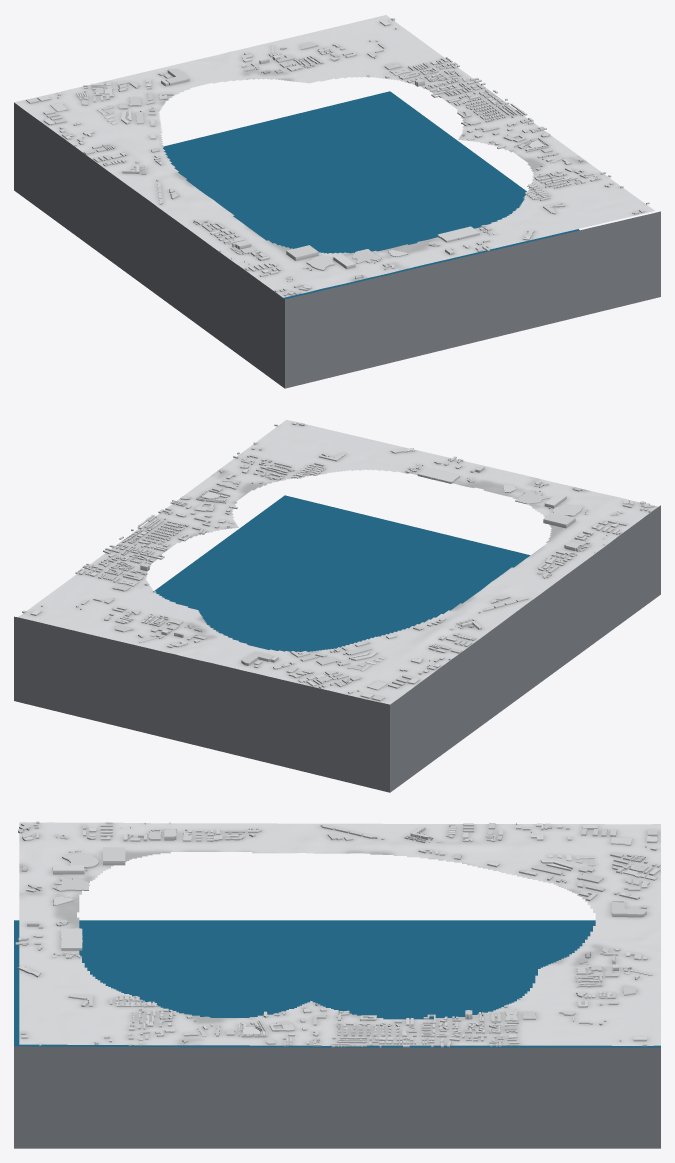
File: far.glb
3 views of the same model, one above another, from view 1: azimuth 30°, elevation 25°; view 2: azimuth 150°, elevation 25°; view 3: azimuth 270°, elevation 25° (orthographic). The views are drawn at different scales.
Visible parts, largest first — view 1: plinth, terrain, water, building; view 2: plinth, terrain, water, building; view 3: plinth, terrain, water, building.
Boxes of the visible parts, x1=… form: plinth: x1=14, y1=102, x2=660, y2=388; terrain: x1=14, y1=15, x2=654, y2=297; water: x1=163, y1=91, x2=579, y2=298; building: x1=26, y1=18, x2=649, y2=296; plinth: x1=14, y1=505, x2=660, y2=792; terrain: x1=18, y1=419, x2=658, y2=704; water: x1=154, y1=495, x2=530, y2=651; building: x1=22, y1=421, x2=654, y2=701; plinth: x1=14, y1=1046, x2=660, y2=1148; terrain: x1=19, y1=822, x2=660, y2=1045; water: x1=14, y1=920, x2=660, y2=1047; building: x1=15, y1=821, x2=660, y2=1047.
Bounding box in the file's own units: 3168 × 742 × 3952.
